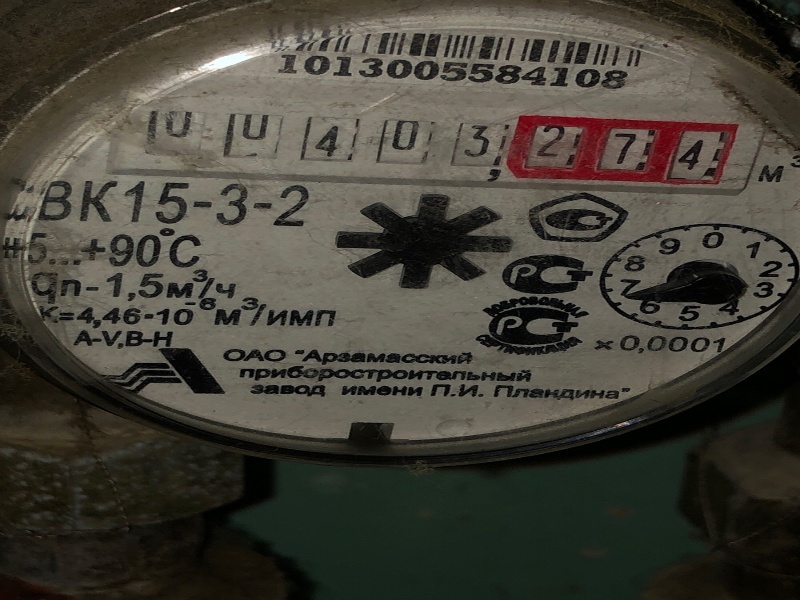dial: (126, 105, 733, 171)
